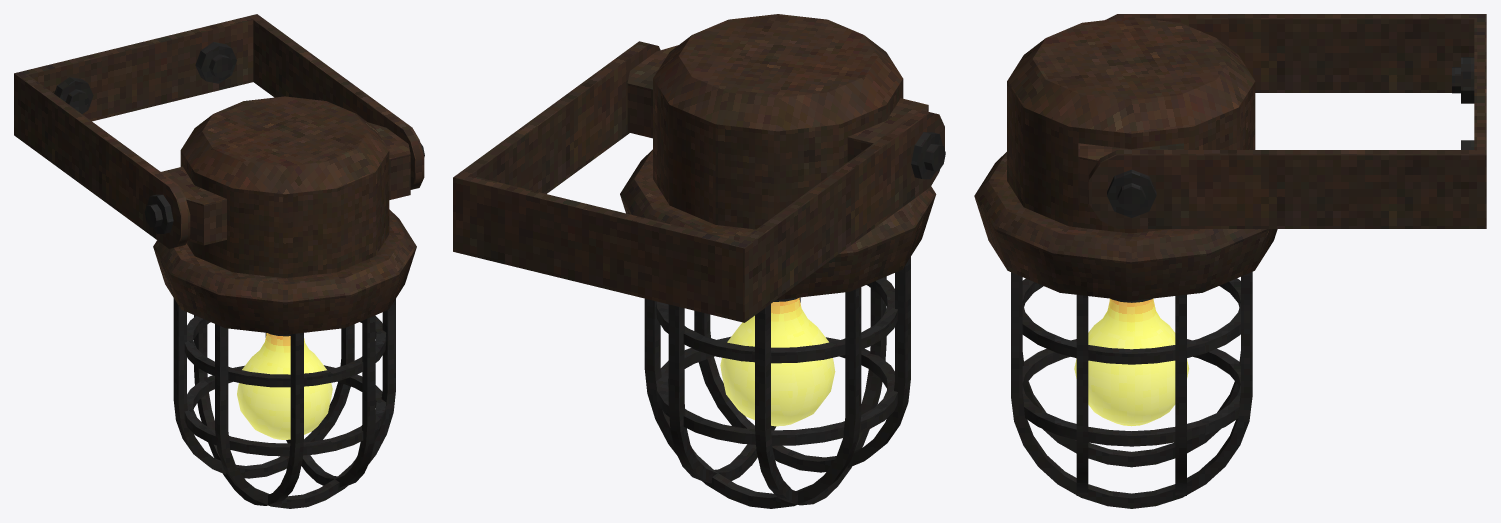
Rendered from lamp_mx_1_on.glb.
3 views of the same model, side by side, from view 1: azimuth 30°, elevation 25°; view 2: azimuth 150°, elevation 25°; view 3: azimuth 270°, elevation 25° (orthographic). The views are drawn at different scales.
Visible parts, largest first — view 1: lamp_mx_1_on; view 2: lamp_mx_1_on; view 3: lamp_mx_1_on.
Part boxes in pixels (x1,y1,x2,y2): lamp_mx_1_on: (14,14,424,508); lamp_mx_1_on: (453,14,945,508); lamp_mx_1_on: (974,14,1486,508).
Bounding box in the file's own units: 0.2245 × 0.2865 × 0.3118.
Materials: 3 (3 with a texture image).
